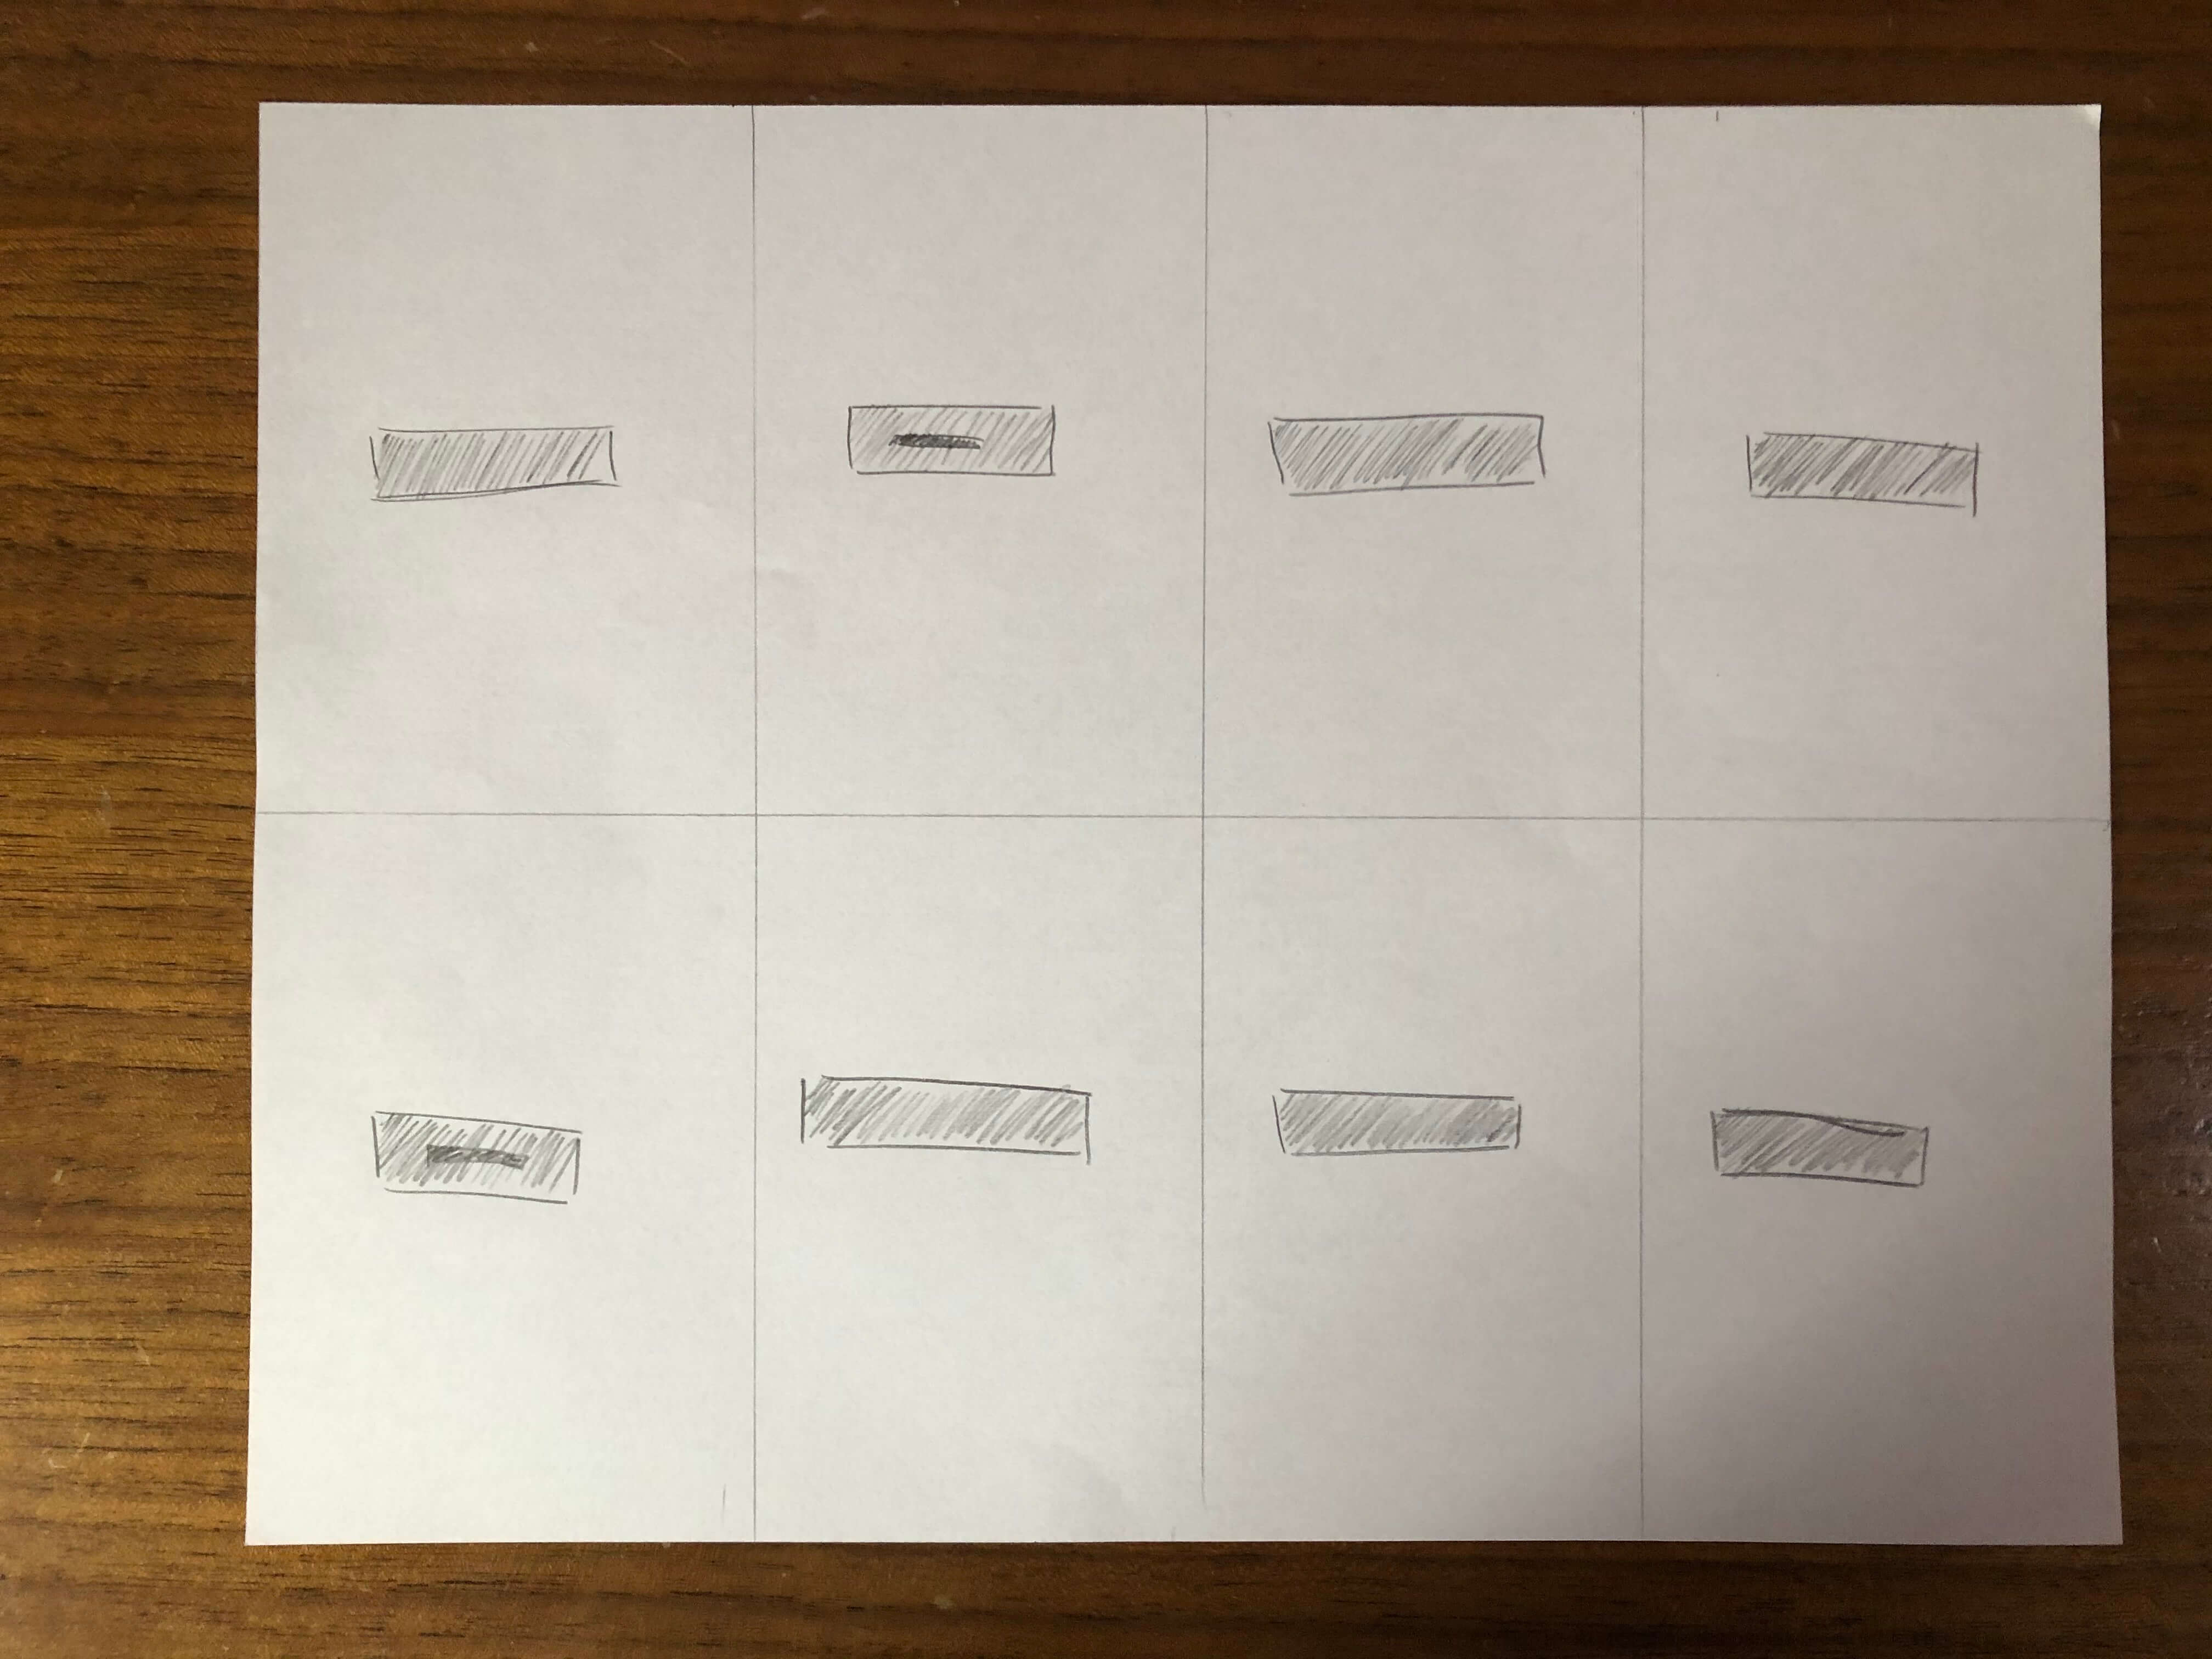button: (791, 1063, 1101, 1190), (1251, 401, 1568, 500), (364, 1094, 601, 1227), (1735, 418, 1991, 533), (1696, 1091, 1940, 1201), (1263, 1073, 1531, 1166), (838, 390, 1066, 495), (361, 418, 629, 505)
